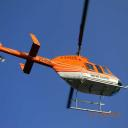helicopter: (1, 8, 128, 117)
